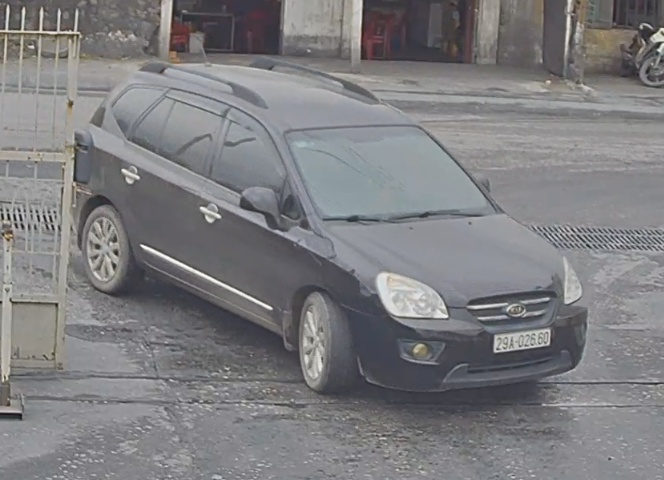vehicle plate: (487, 327, 561, 358)
